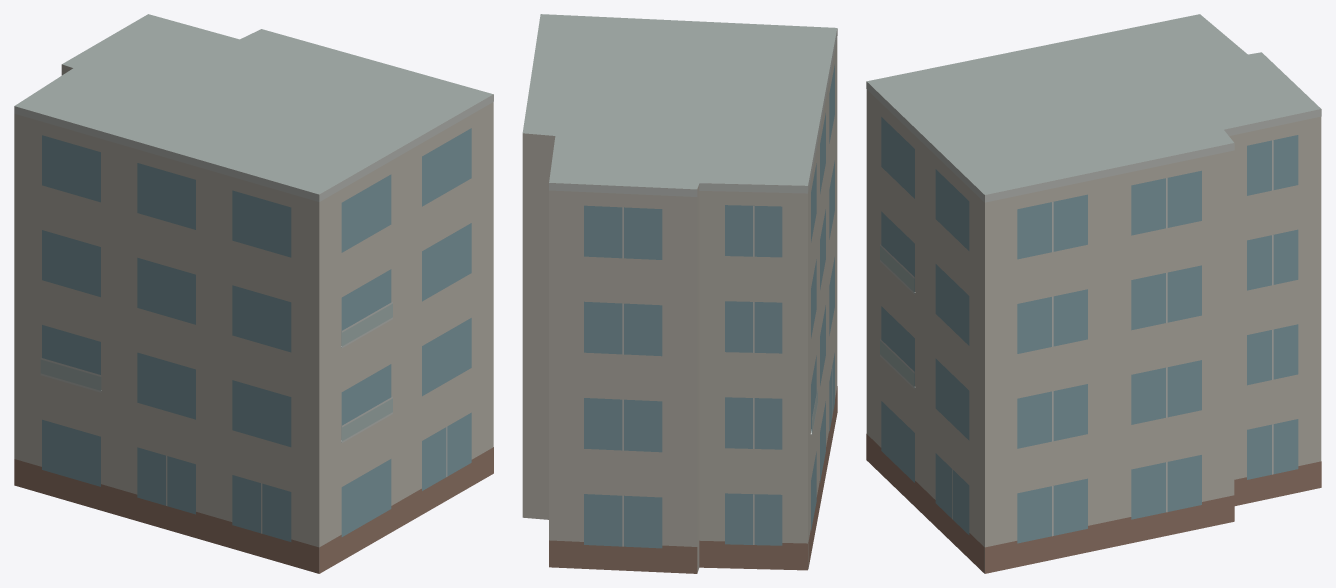
File: survey-upis-32528018.glb
3 views of the same model, side by side, from view 1: azimuth 30°, elevation 25°; view 2: azimuth 150°, elevation 25°; view 3: azimuth 270°, elevation 25° (orthographic).
Parts seen in each view (by area): view 1: survey-upis-32528018.tmp; view 2: survey-upis-32528018.tmp; view 3: survey-upis-32528018.tmp.
Part boxes in pixels (x1,y1,x2,y2): survey-upis-32528018.tmp: (14, 14, 493, 573); survey-upis-32528018.tmp: (522, 14, 837, 573); survey-upis-32528018.tmp: (866, 14, 1321, 573).
Size of the model in its own units: 12.52 by 12.2 by 13.29.
